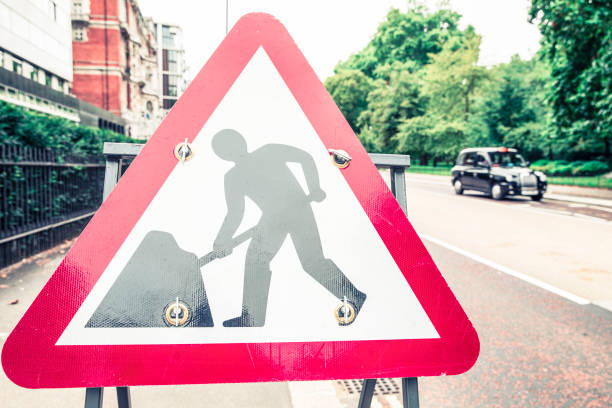otomobil: (451, 132, 561, 230)
yol_calismasi_levha: (7, 8, 484, 381)
